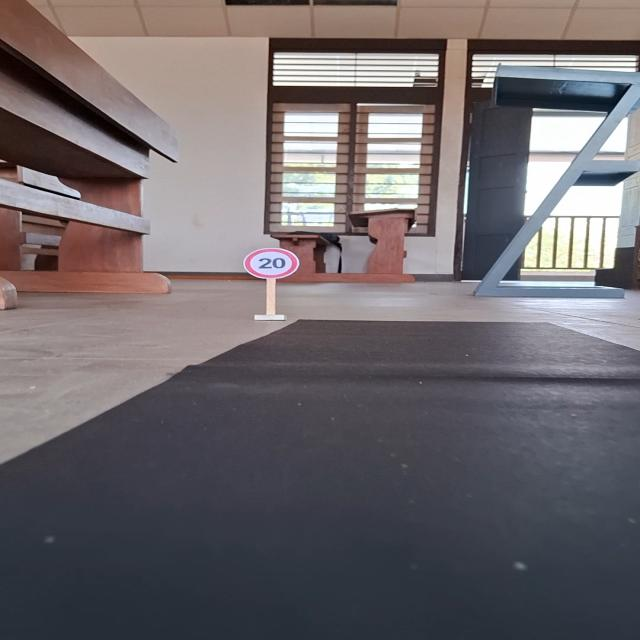Speed20: (242, 247, 301, 280)
